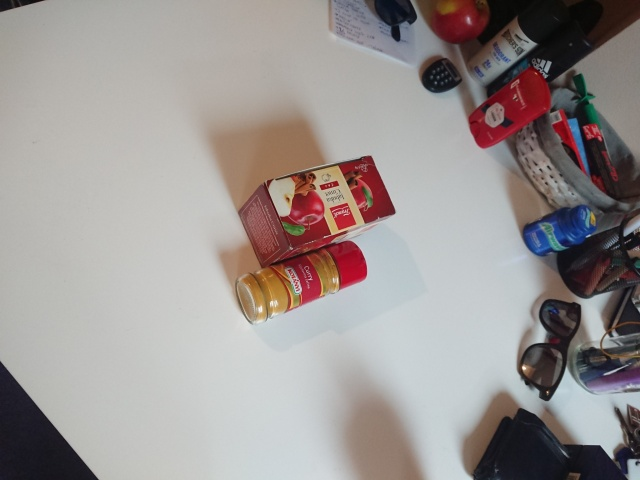Franck Apple Cinnamon Tea 60g: (235, 153, 398, 272)
Kotanyi Curry Spices Mix 70g: (234, 238, 370, 327)
